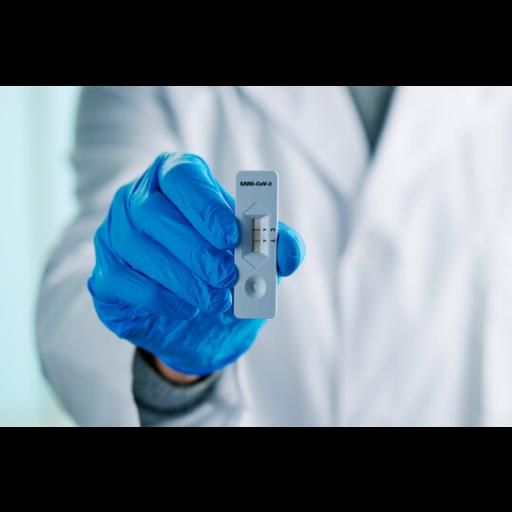Pos: (237, 170, 275, 316)
